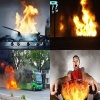fire: (73, 0, 97, 36), (14, 5, 38, 33), (62, 78, 89, 100), (1, 63, 21, 89), (59, 23, 64, 31), (60, 14, 64, 20)
